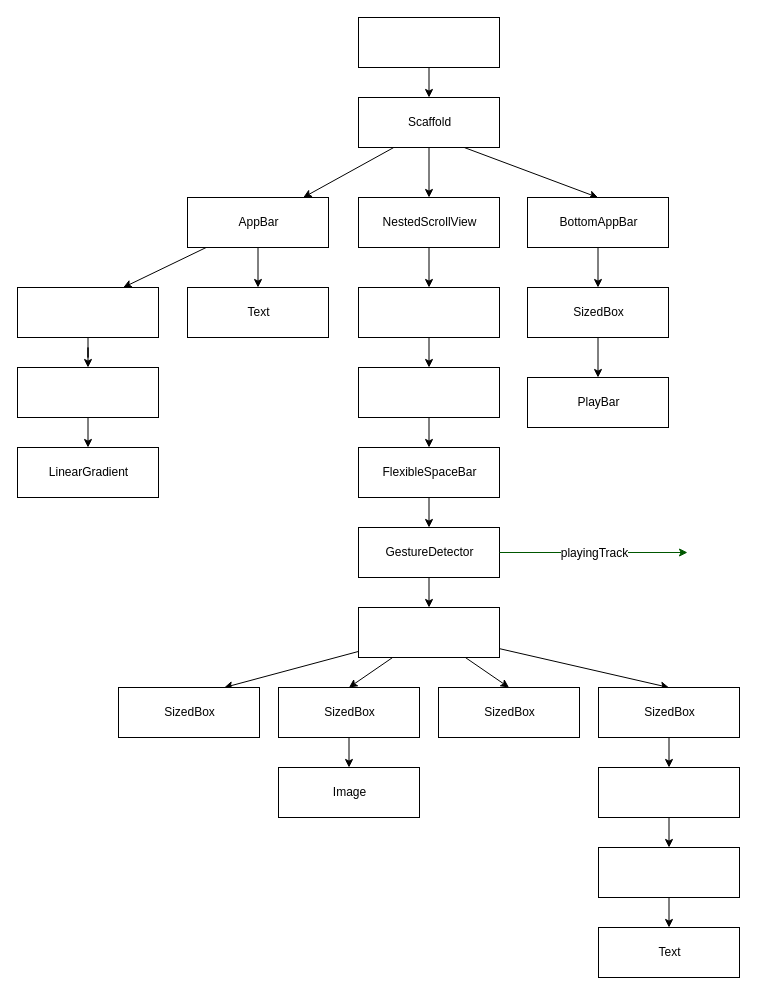
Some shapes in this 757 by 995 pixel diagram are drawn without their labels. The centre of each missing label's shape, as x and y in pixels:
BoxDecoration: point 87,392
Center: point 669,872
Container: point 87,312
FutureBuilder: point 669,792
OrientationBuilder: point 429,42
Row: point 429,632
SliverAppBar: point 429,392
SliverSafeArea: point 429,312
